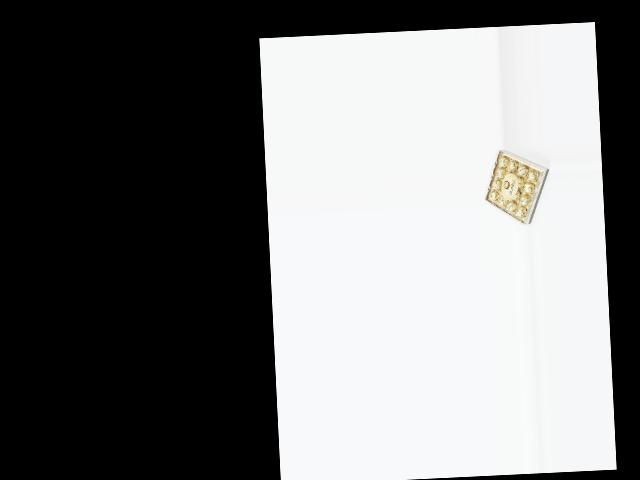chocolate: (481, 146, 553, 228)
